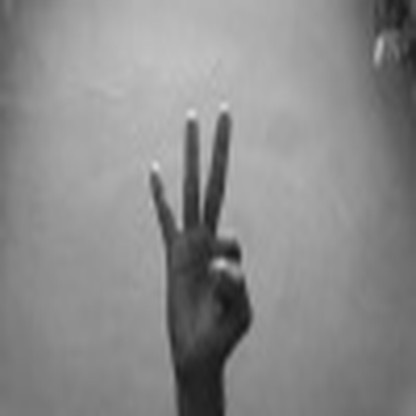f: (137, 98, 273, 357)
